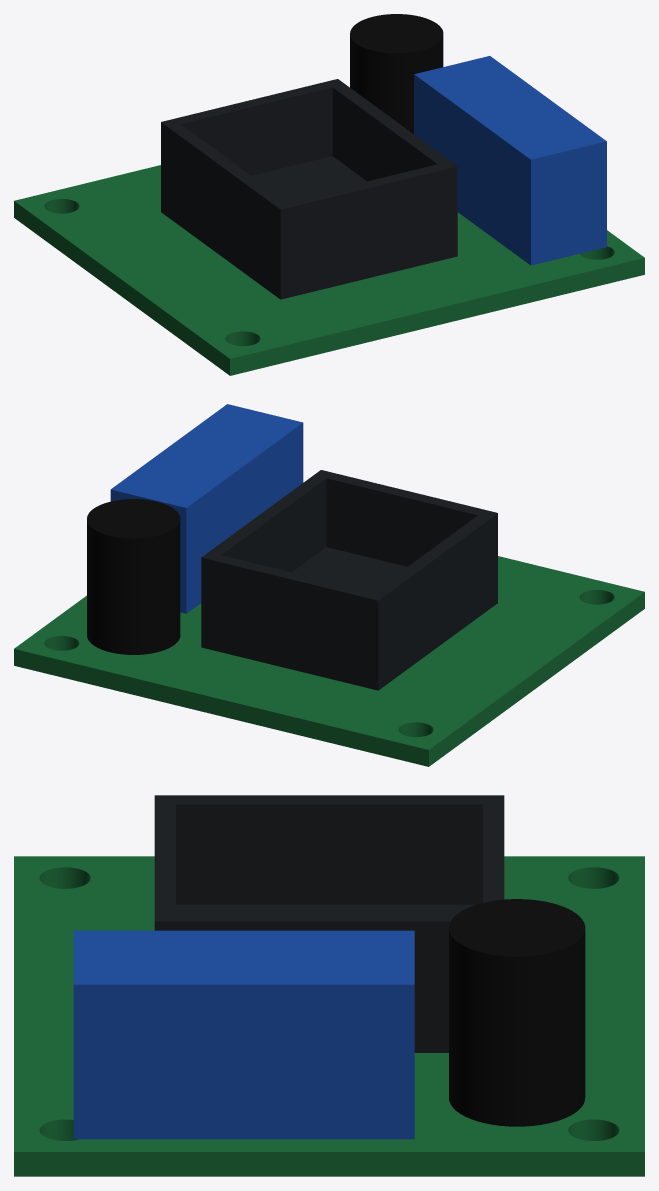
The model's file is base_driver.glb.
3 renders of one model, top to bottom at view 1: azimuth 30°, elevation 25°; view 2: azimuth 150°, elevation 25°; view 3: azimuth 270°, elevation 25°, orthographic. The views are drawn at different scales.
Visible parts, largest first — view 1: base_driver; view 2: base_driver; view 3: base_driver.
Boxes of the visible parts, bbox=[...] form: base_driver: bbox=[14, 14, 644, 375]; base_driver: bbox=[14, 404, 644, 766]; base_driver: bbox=[14, 795, 644, 1176].
Size of the model in its own units: 41 by 12.6 by 37.
